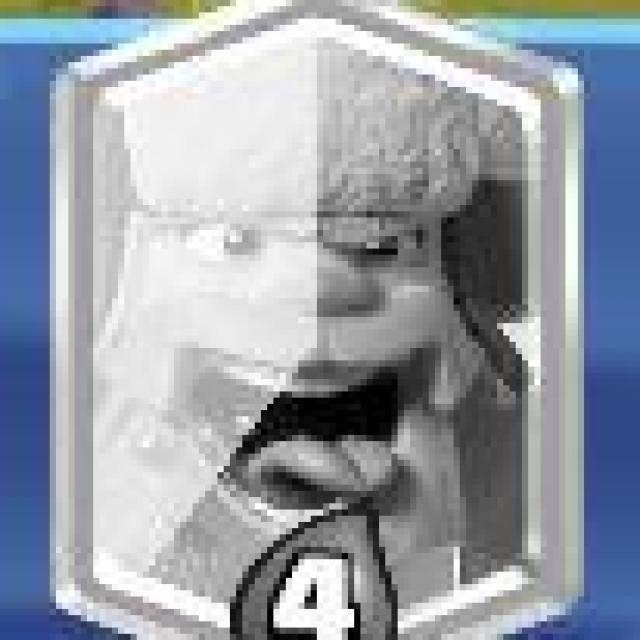Lumberjack: (51, 1, 578, 638)
